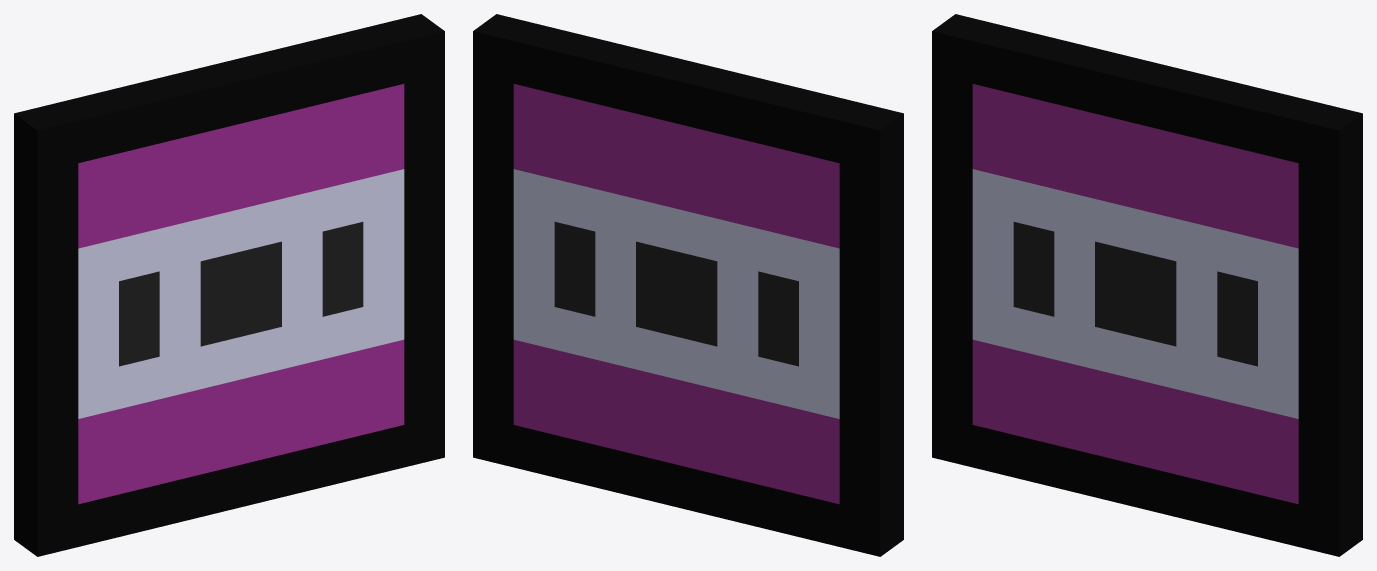
File: Magenta Paintball Explosive Item.glb
3 views of the same model, side by side, from view 1: azimuth 30°, elevation 25°; view 2: azimuth 150°, elevation 25°; view 3: azimuth 330°, elevation 25° (orthographic).
Visible parts, largest first — view 1: generated; view 2: generated; view 3: generated.
Part boxes in pixels (x1,y1,x2,y2): generated: (14,14,444,556); generated: (473,14,903,556); generated: (932,14,1362,556).
Bounding box in the file's own units: 10 × 10 × 1.
Materials: 1 (1 with a texture image).
